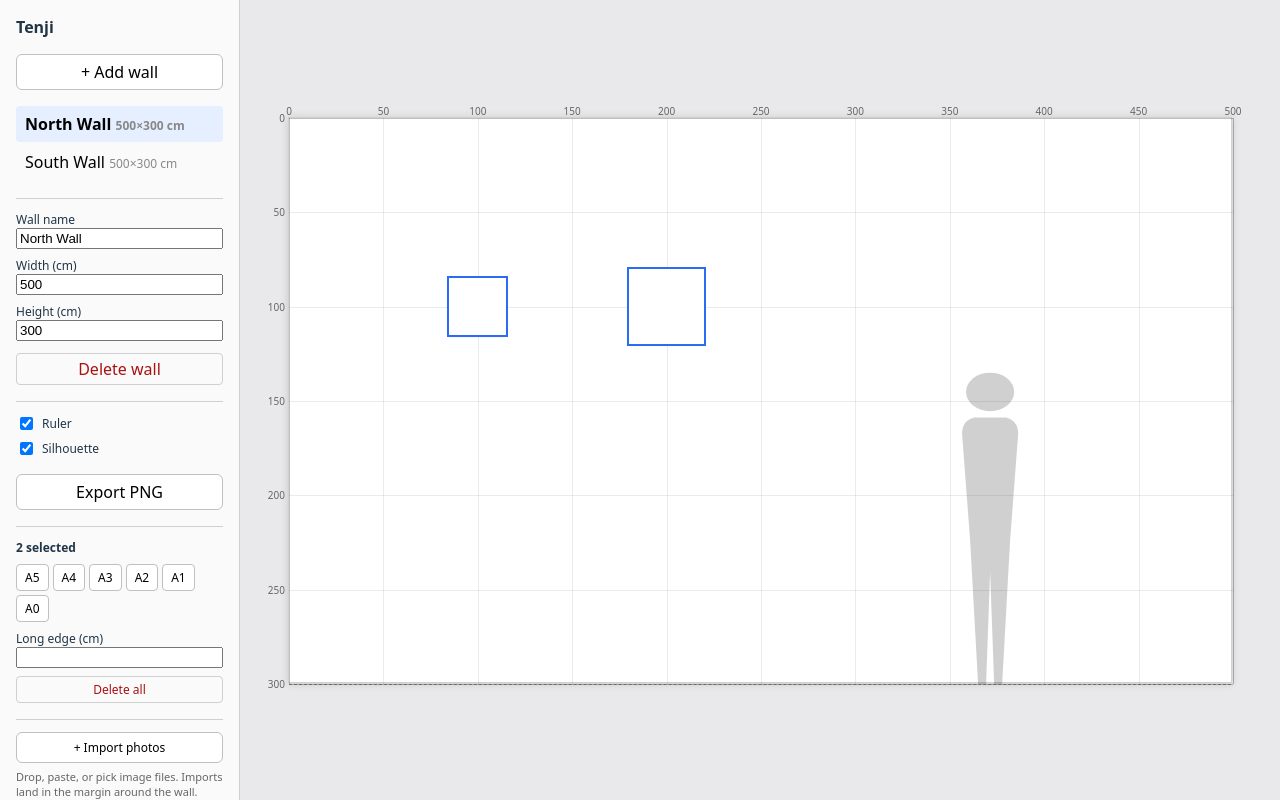
Test: App › copy/paste › right-click on a placement opens a menu with Copy/Delete/Paste; clicking Copy + switching wall + clicking Paste reproduces the cluster
The width and height of the screenshot is (1280, 800).
Right-click the element with test id "placement-pl-a".
right_click(478, 307)  # box [450, 278, 506, 335]
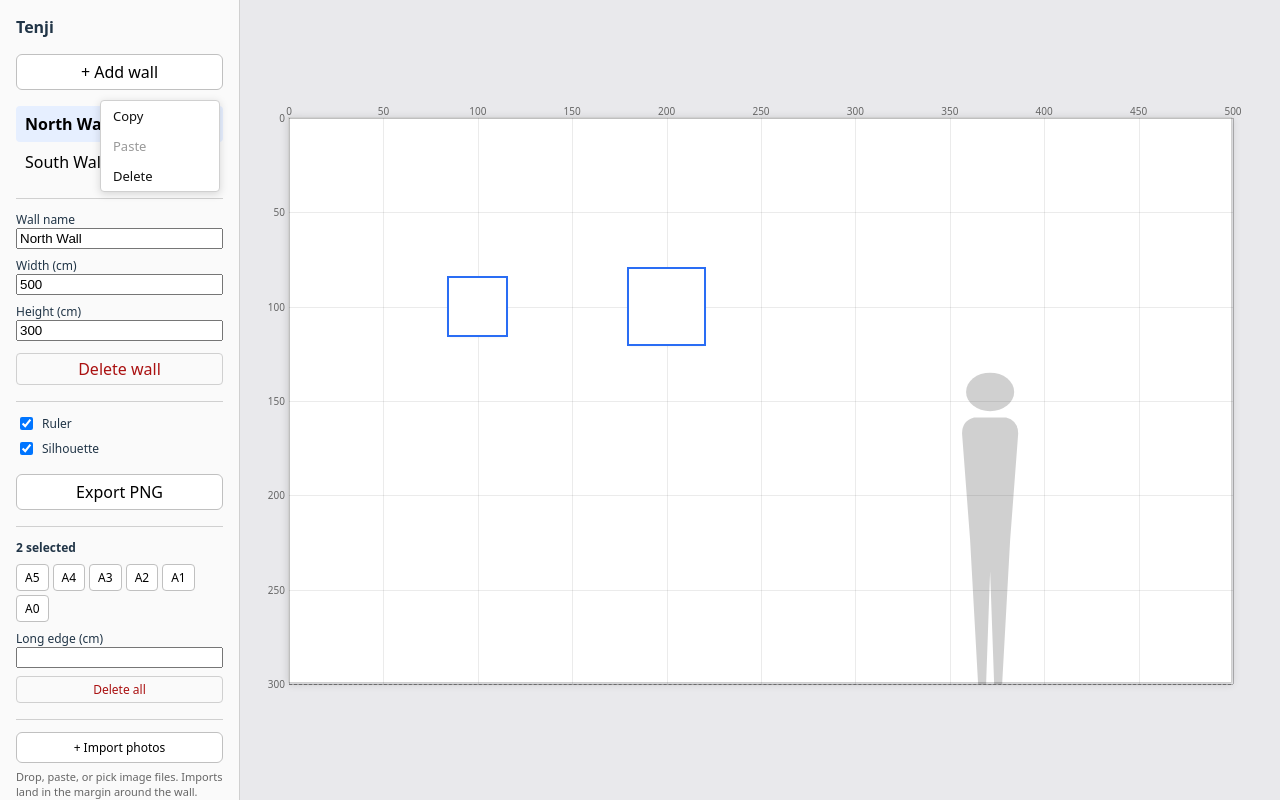
Now the menu with test id "context-menu" is shown, box [100, 100, 220, 192]
Now the button "Copy" is enabled
Now the button "Delete" is enabled, box [101, 161, 219, 191]
Click the button "Copy".
click(160, 116)  # box [101, 101, 219, 131]
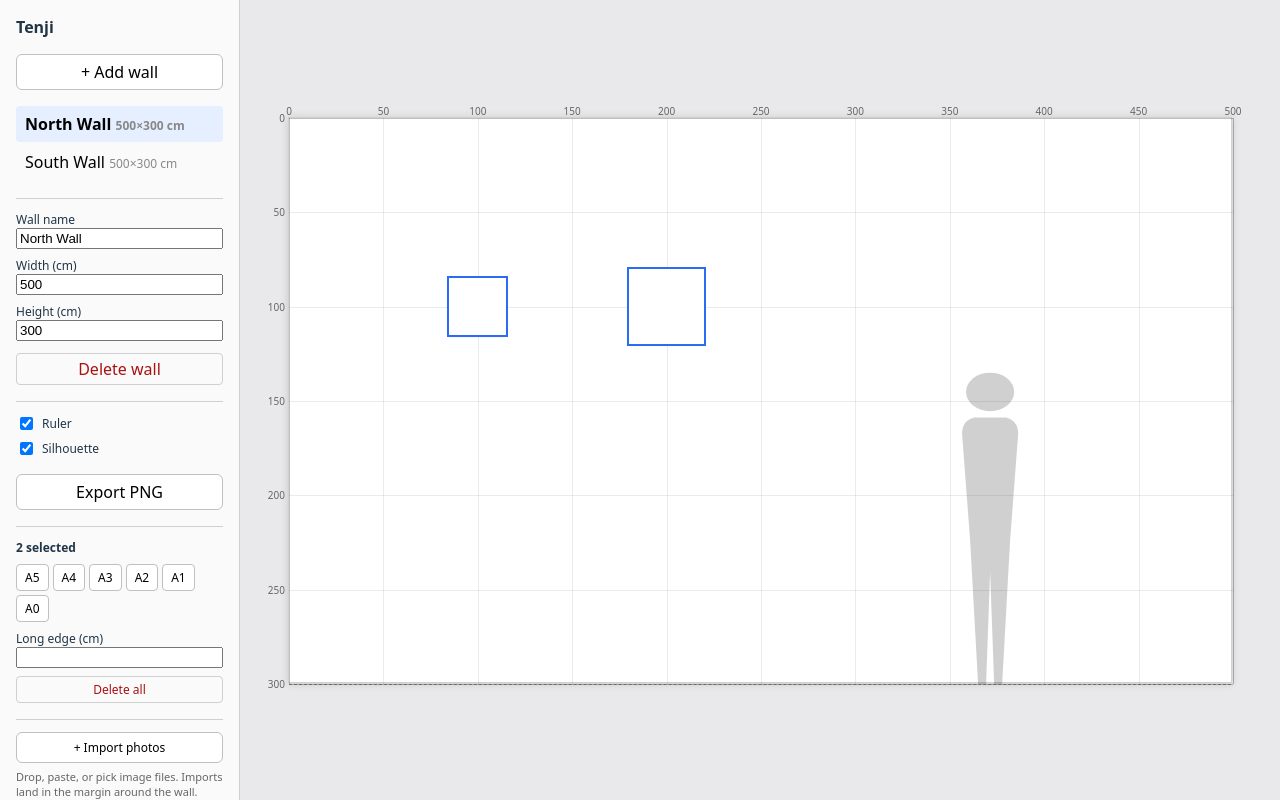
Now the menu with test id "context-menu" is gone
Click the button "South Wall 500×300 cm".
click(120, 162)  # box [16, 144, 223, 180]
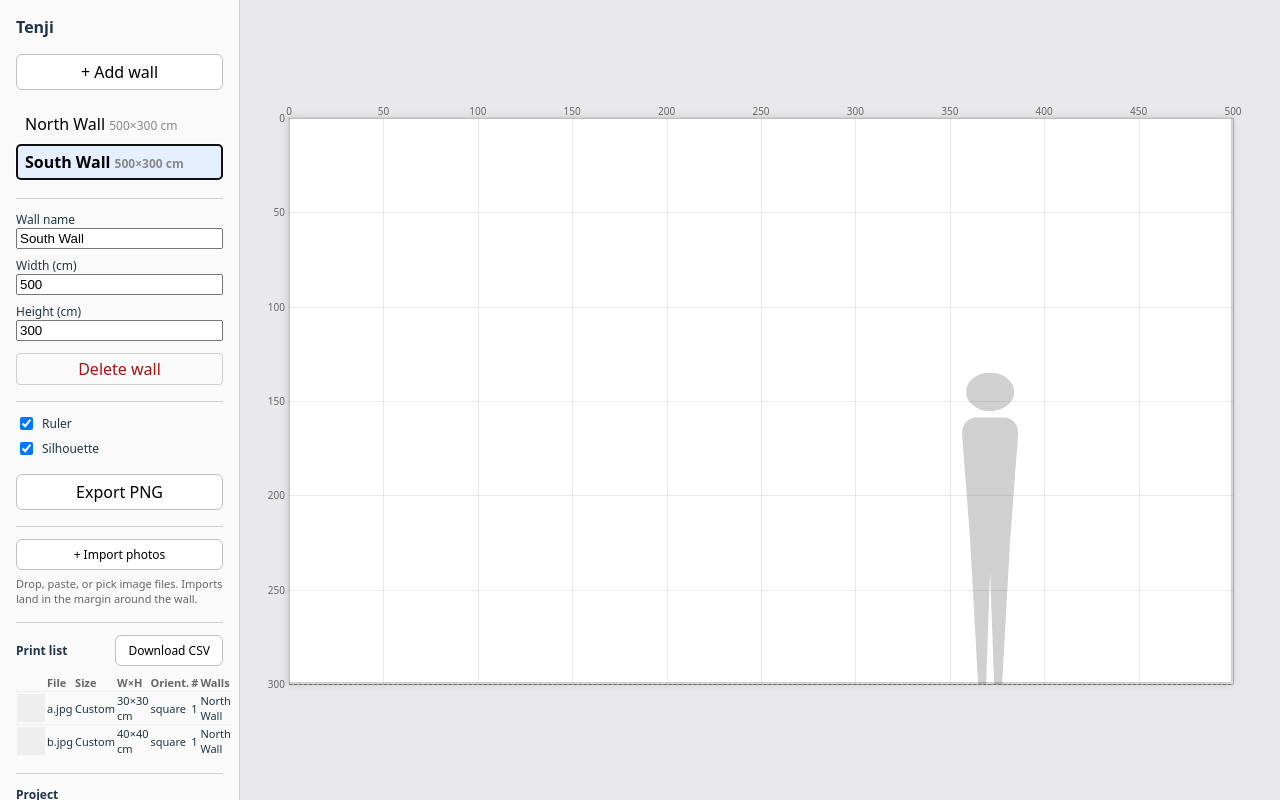
Now the element with test id "placement-pl-a" is gone
Right-click the element with test id "stage".
right_click(760, 400)  # box [240, 0, 1279, 799]
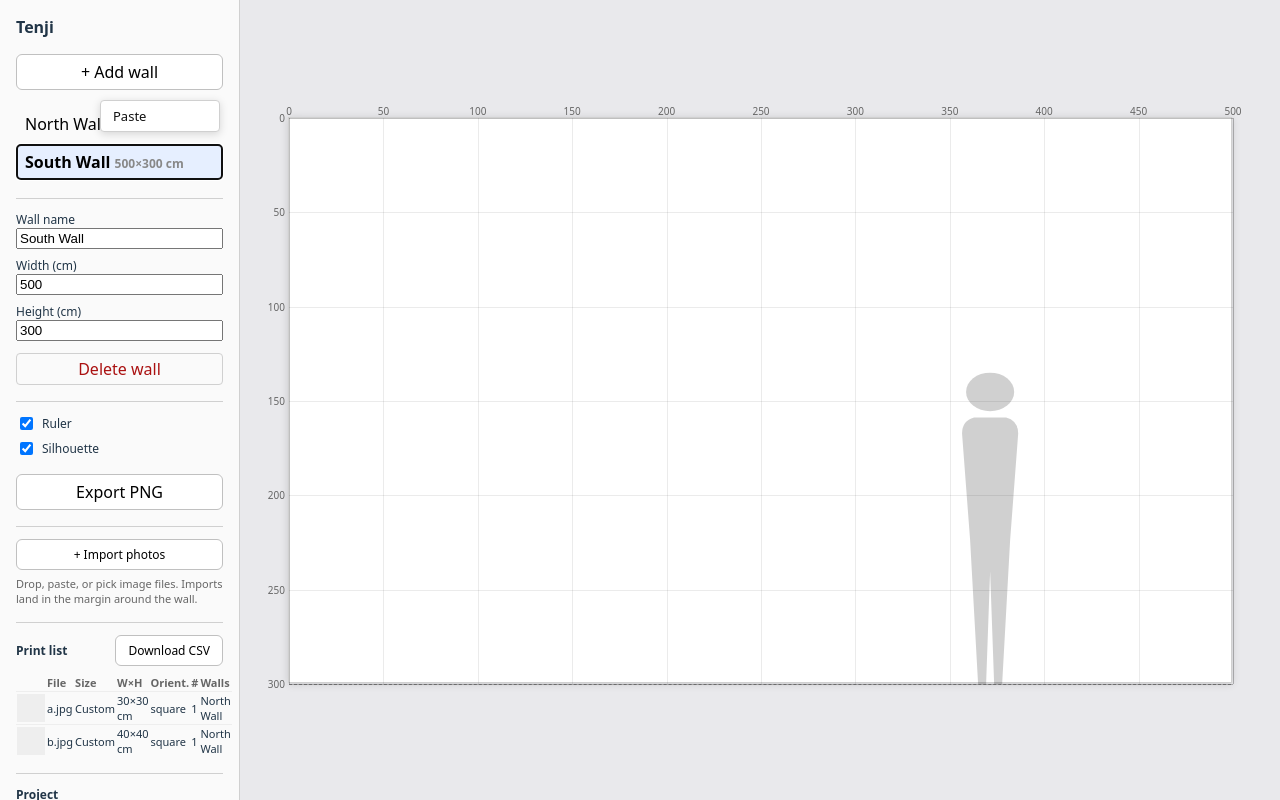
Expected: the button "Copy" is not shown
Now the button "Paste" is enabled
Click the button "Paste".
click(160, 116)  # box [101, 101, 219, 131]
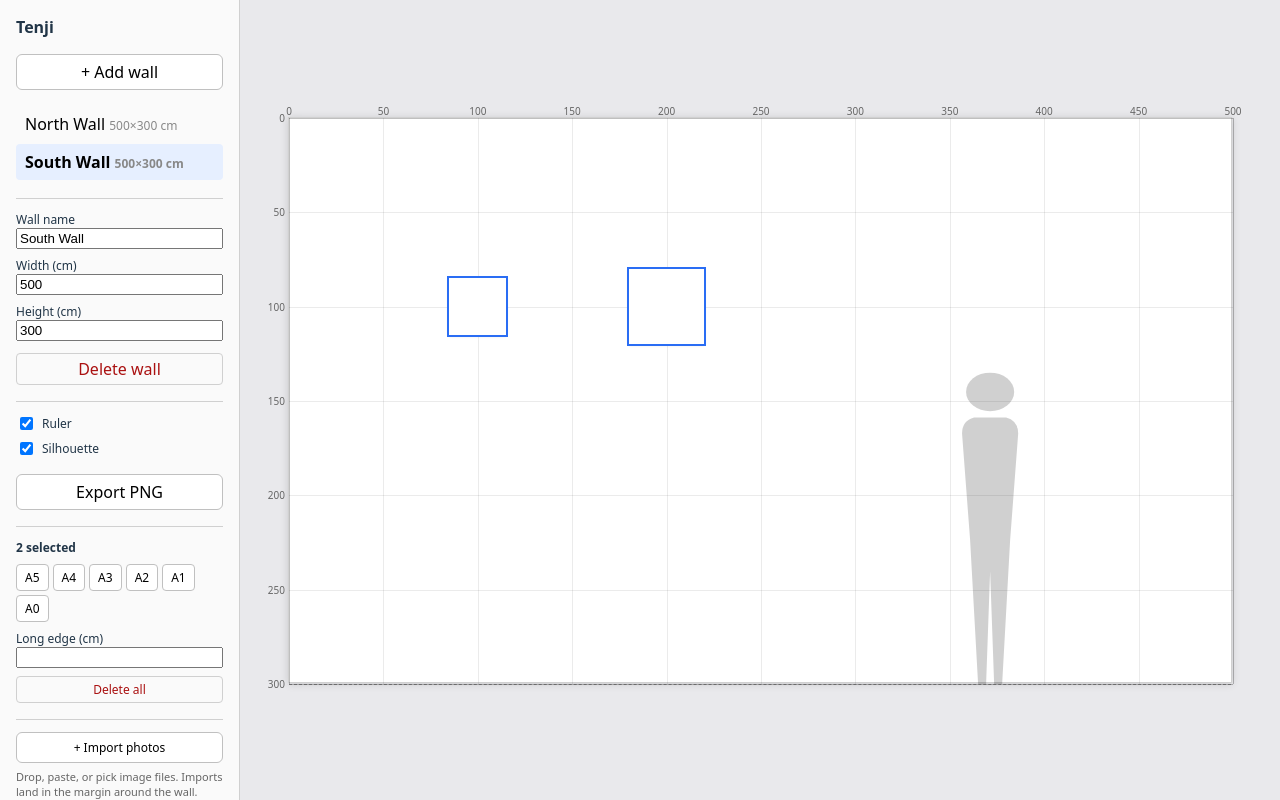
Now the element with test id "placement-ctx-1" is shown, box [450, 278, 506, 335]
Now the element with test id "placement-ctx-2" is shown, box [629, 269, 704, 344]
